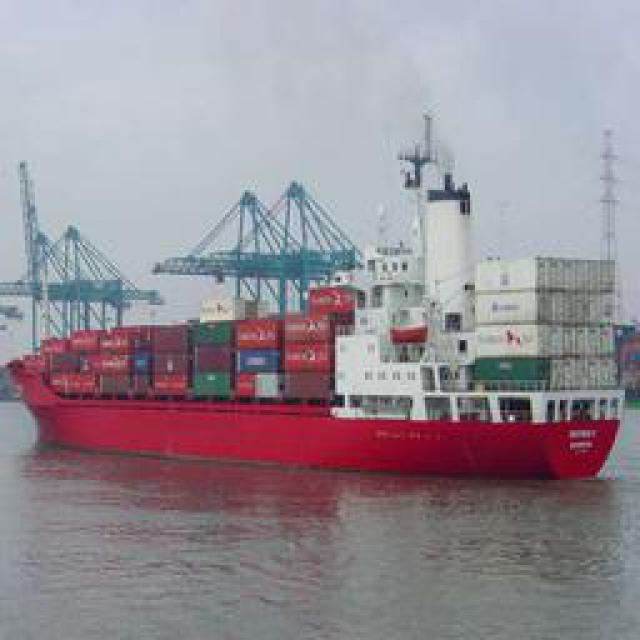Ship: (11, 245, 626, 475)
